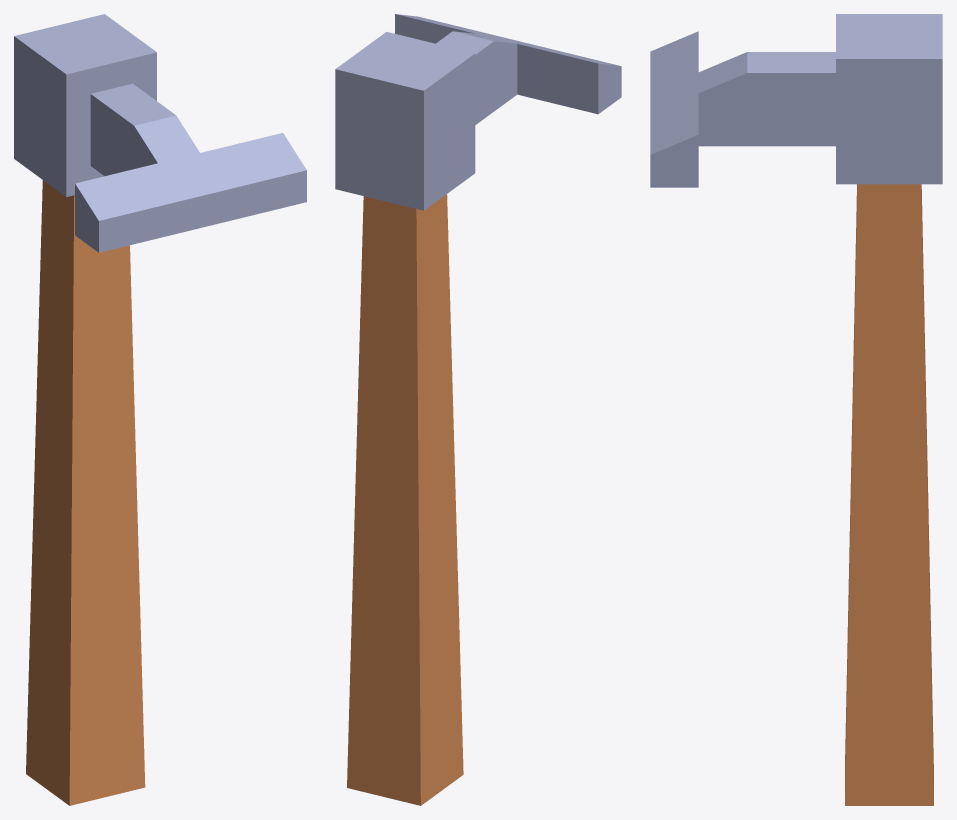
Rendered from toolHoe.dae.
3 renders of one model, left to right at view 1: azimuth 30°, elevation 25°; view 2: azimuth 150°, elevation 25°; view 3: azimuth 270°, elevation 25°, orthographic. The views are drawn at different scales.
Visible parts, largest first — view 1: toolHoe; view 2: toolHoe; view 3: toolHoe.
Boxes of the visible parts, bbox=[...] form: toolHoe: bbox=[14, 14, 306, 805]; toolHoe: bbox=[335, 14, 621, 805]; toolHoe: bbox=[650, 14, 942, 805].
Size of the model in its own units: 0.2837 by 0.96 by 0.3391.
